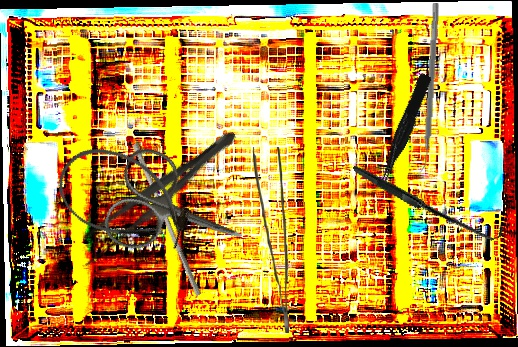Cannula: (44, 131, 204, 267)
Dressing Forceps: (69, 121, 245, 271)
Hook Surgical: (352, 122, 506, 280)
Iris Scissors: (98, 142, 260, 285)
Pusher: (126, 142, 208, 297)
Spatula Surgical: (416, 2, 440, 174)
Tissue Forceps: (372, 72, 437, 184), (253, 147, 289, 333)
